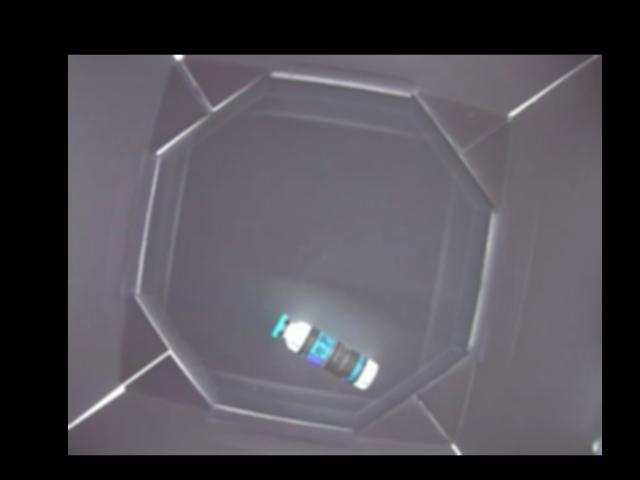Medicine: (272, 314, 376, 391)
